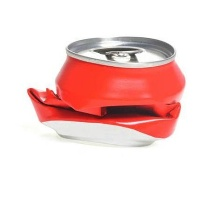can: (14, 27, 191, 153)
